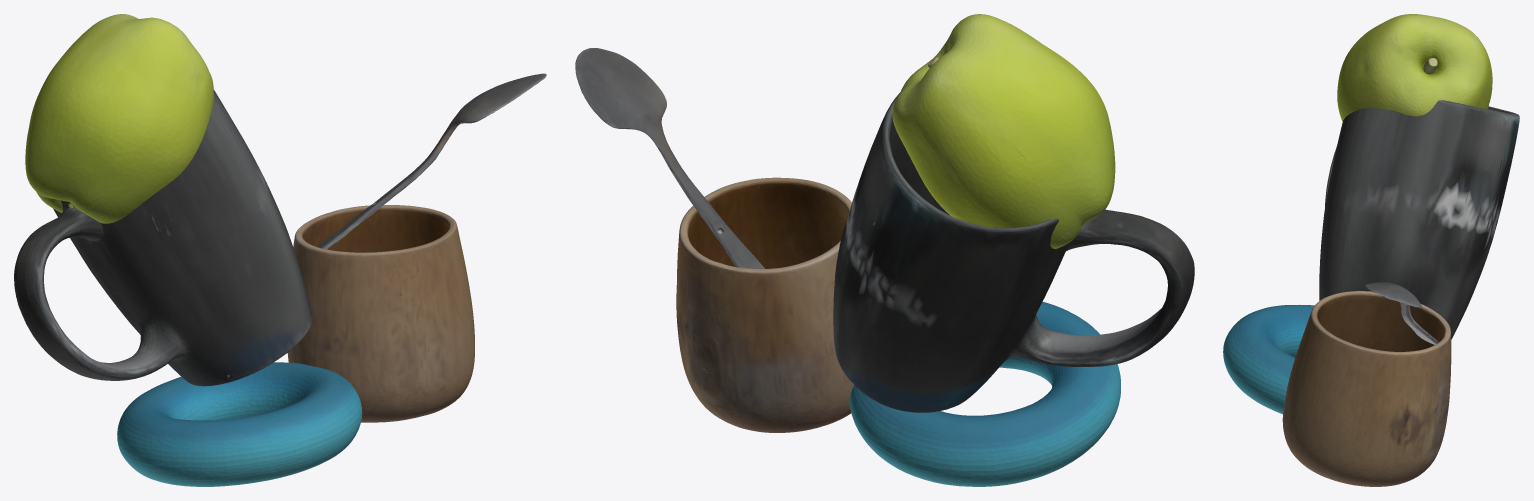
The model's file is sam3d.glb.
3 views of the same model, side by side, from view 1: azimuth 30°, elevation 25°; view 2: azimuth 150°, elevation 25°; view 3: azimuth 270°, elevation 25° (orthographic). The views are drawn at different scales.
Parts seen in each view (by area): view 1: object_04, object_03, object_02, object_01, object_00; view 2: object_04, object_03, object_02, object_01, object_00; view 3: object_04, object_03, object_02, object_01, object_00.
Boxes of the visible parts, <box> form: object_04: <box>14,89,312,386</box>; object_03: <box>287,205,474,422</box>; object_02: <box>25,14,213,223</box>; object_01: <box>117,362,362,486</box>; object_00: <box>317,73,546,249</box>; object_04: <box>833,92,1194,412</box>; object_03: <box>676,177,853,432</box>; object_02: <box>892,14,1115,248</box>; object_01: <box>849,301,1120,486</box>; object_00: <box>575,48,764,268</box>; object_04: <box>1319,100,1519,343</box>; object_03: <box>1282,291,1451,486</box>; object_02: <box>1337,14,1492,121</box>; object_01: <box>1223,304,1314,414</box>; object_00: <box>1365,282,1438,344</box>.
Size of the model in its own units: 1.16 by 0.8788 by 0.6353.
